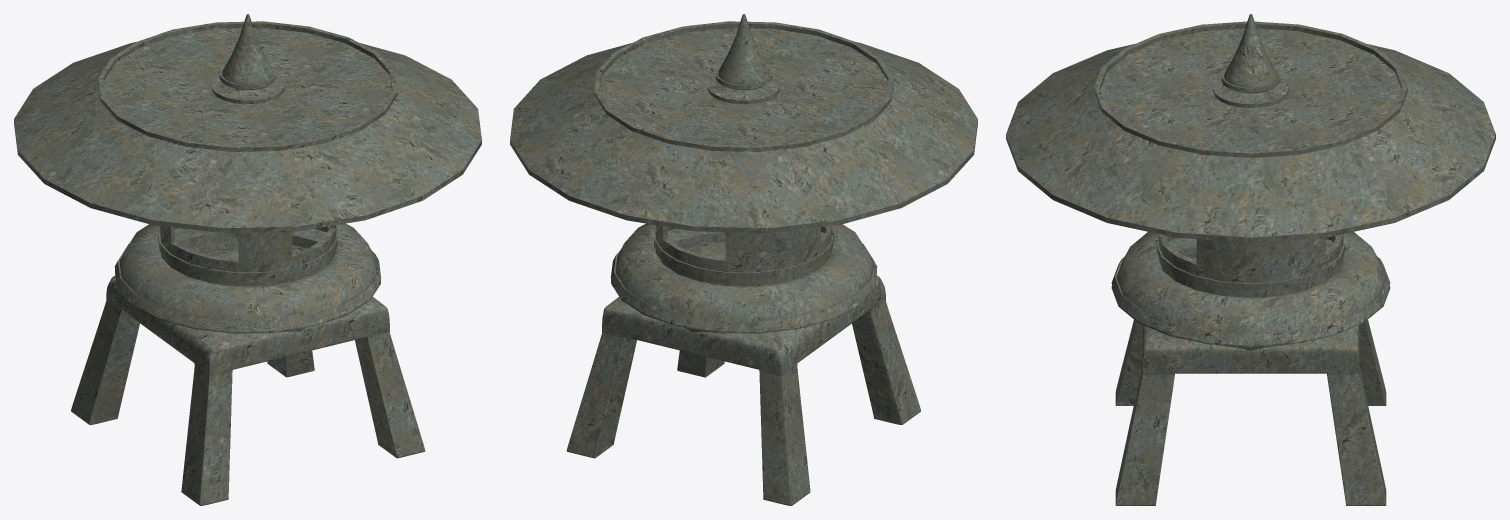
Rendered from fbxLantern.fbx.
3 renders of one model, left to right at view 1: azimuth 30°, elevation 25°; view 2: azimuth 150°, elevation 25°; view 3: azimuth 270°, elevation 25°, orthographic. The views are drawn at different scales.
Parts seen in each view (by area): view 1: Lantern; view 2: Lantern; view 3: Lantern.
Part boxes in pixels (x1=…): Lantern: x1=14, y1=14, x2=481, y2=505; Lantern: x1=510, y1=14, x2=977, y2=505; Lantern: x1=1006, y1=14, x2=1495, y2=505.
Size of the model in its own units: 2.08 by 2.03 by 2.08.
Materials: 1 (1 with a texture image).
